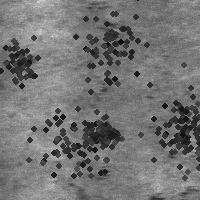rolled-in_scale: (50, 0, 166, 103), (18, 88, 124, 194), (132, 73, 200, 191), (135, 80, 200, 168), (72, 126, 117, 200), (143, 146, 199, 200), (0, 35, 45, 87), (78, 108, 124, 154), (71, 61, 110, 110), (85, 1, 122, 40)
